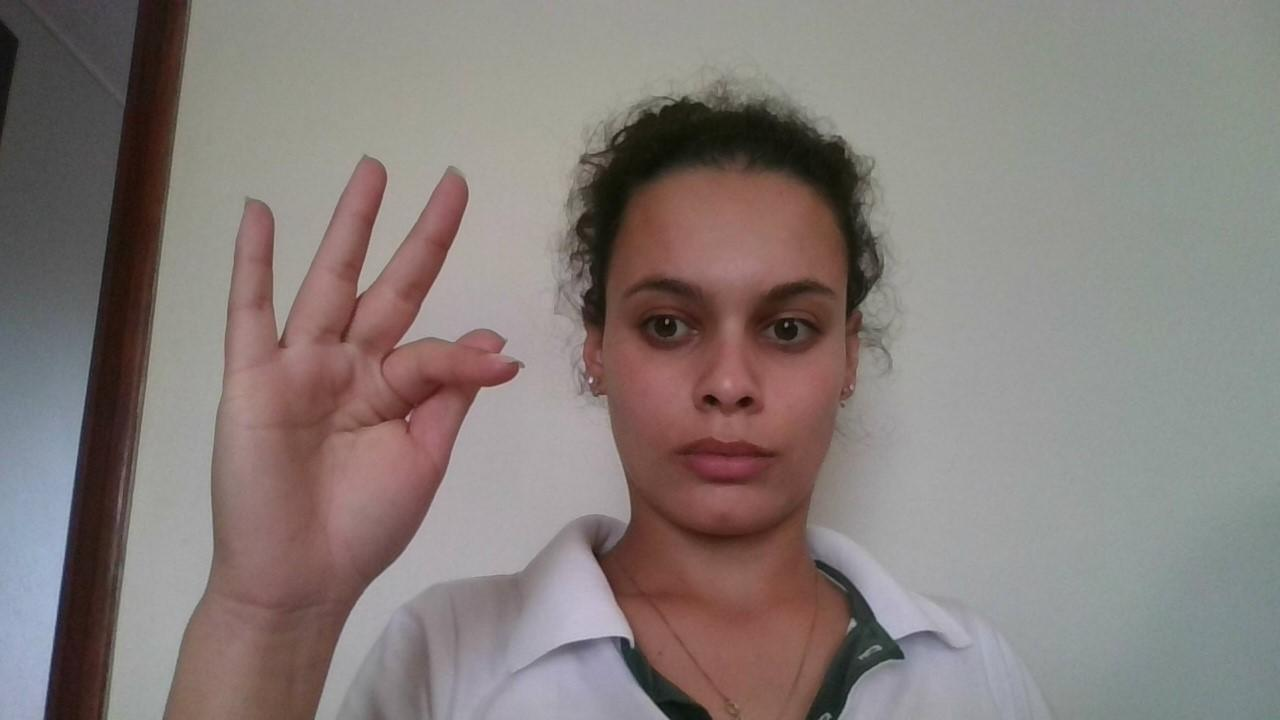F: (206, 146, 528, 584)
